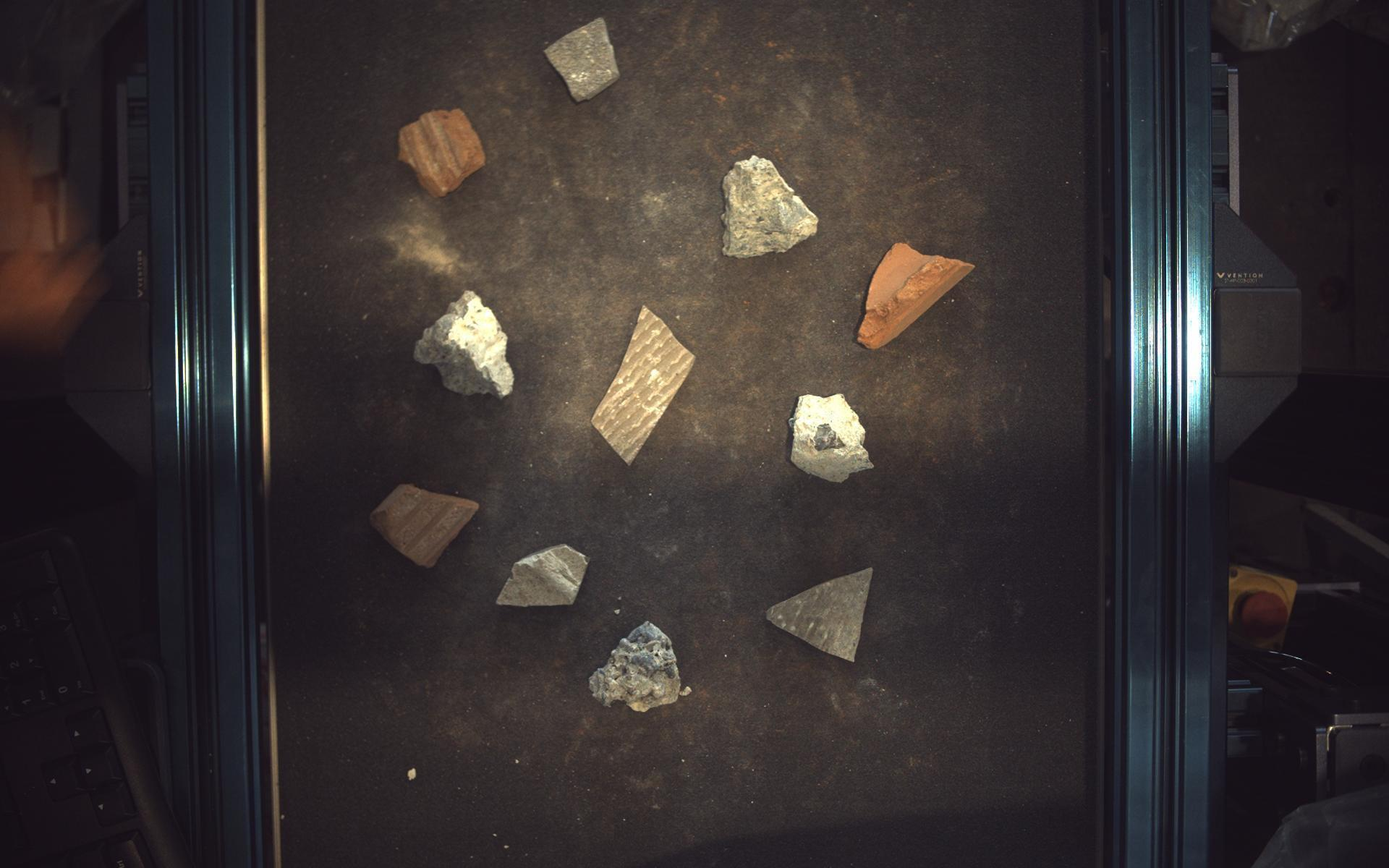brick: (859, 242, 976, 349), (370, 485, 479, 568), (399, 107, 485, 196)
concrete: (414, 291, 514, 397), (723, 155, 820, 257), (590, 622, 693, 713), (791, 393, 875, 483)
tile: (592, 306, 695, 464), (768, 568, 875, 662), (545, 16, 621, 101), (497, 545, 588, 608)
